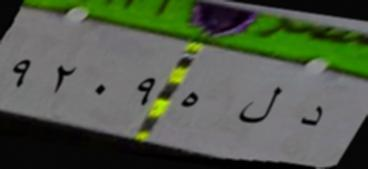0: (86, 74, 112, 106)
2: (52, 59, 76, 97)
9: (129, 66, 156, 110), (9, 58, 36, 97)
daal: (295, 96, 325, 136)
haa: (177, 86, 202, 116)
laam: (235, 73, 282, 133)
